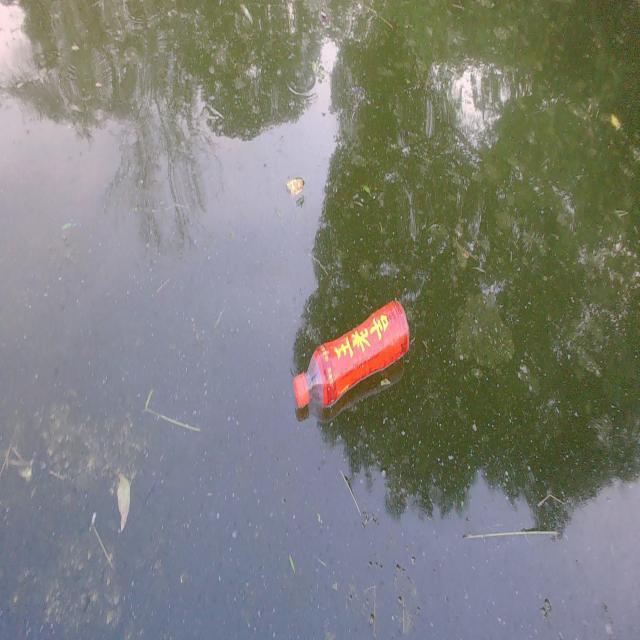bottle: (278, 292, 418, 415)
